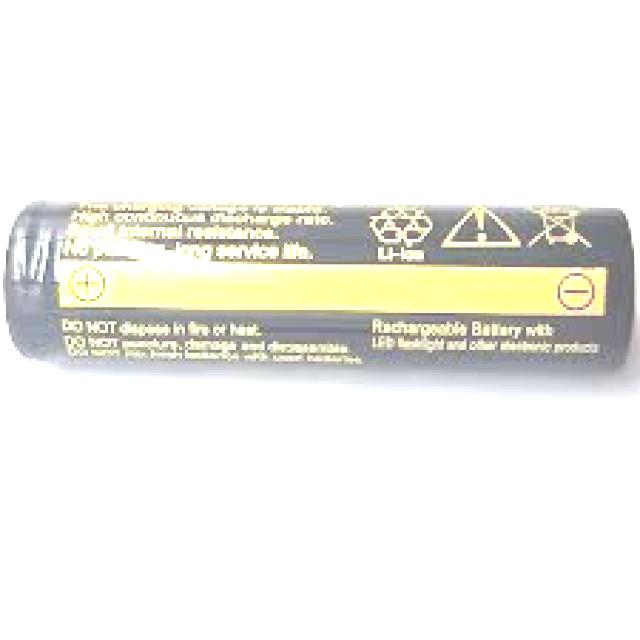AA: (0, 196, 637, 373)
